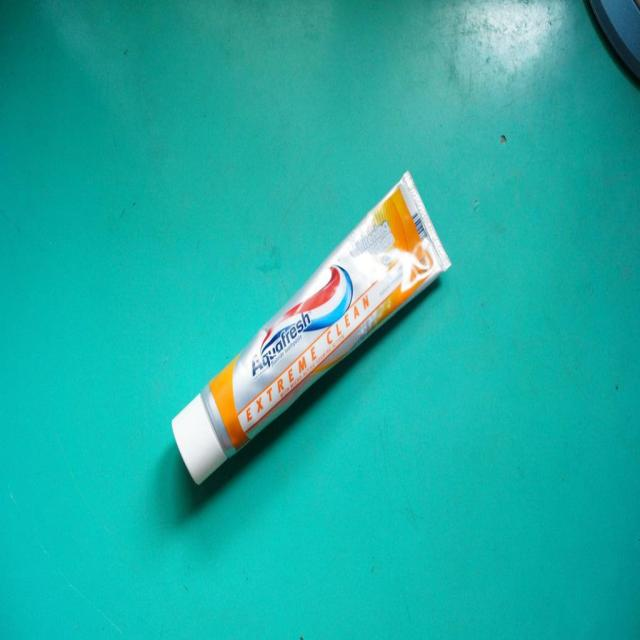Toothpaste: (170, 162, 480, 490)
